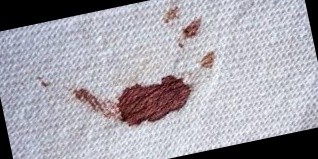blood: (109, 73, 195, 129), (178, 19, 205, 44)
